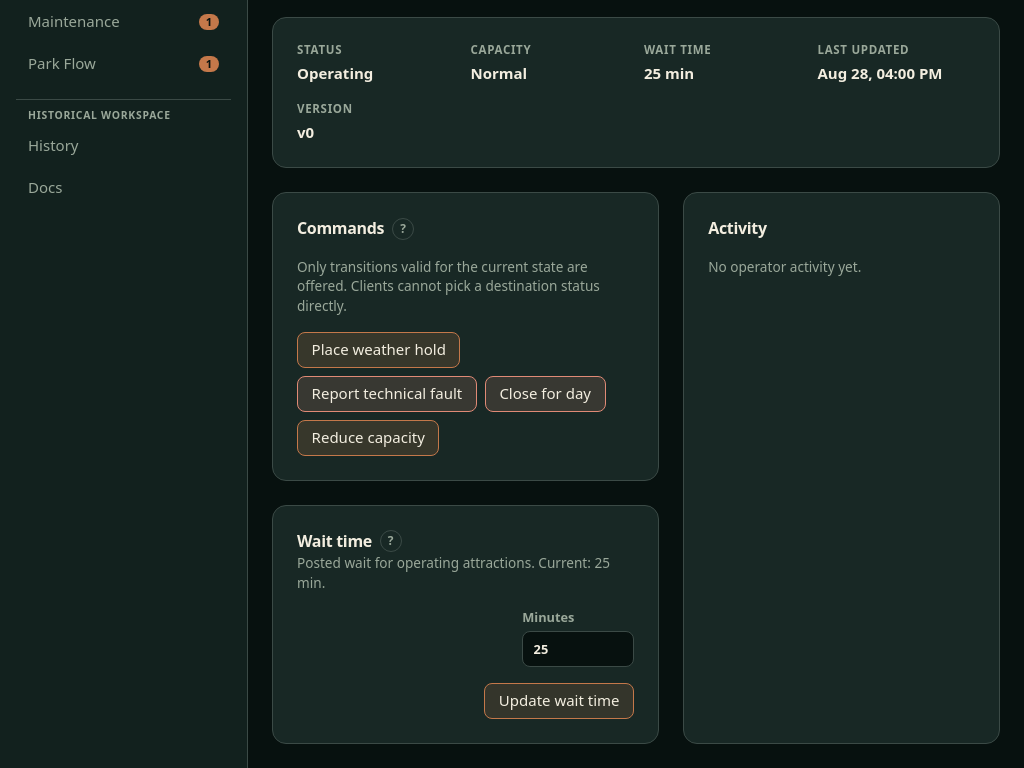
Scenario: Mangrove Run command workspace › updates wait time and refreshes current state
This screenshot has width=1024, height=768.
(page scrolled)
Replace the text in the number field labelled "Minutes" with "35" at (578, 649), box [522,631,634,667]
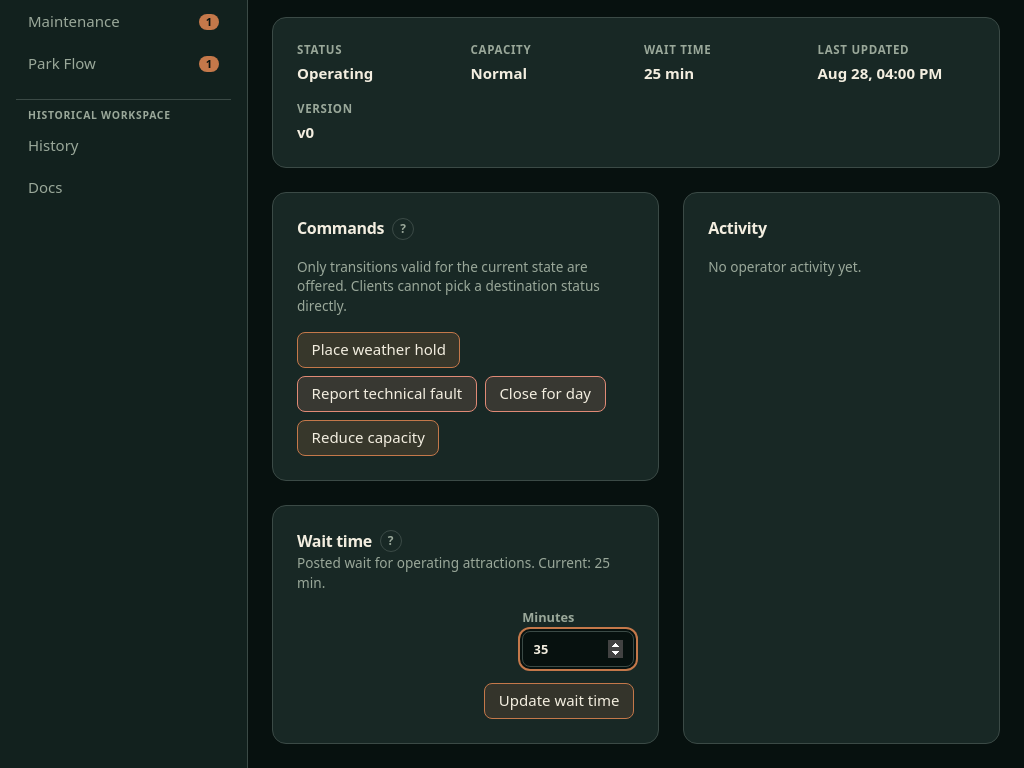
Click the button "Update wait time" at (559, 701), box [484,683,634,719]
(page scrolled)
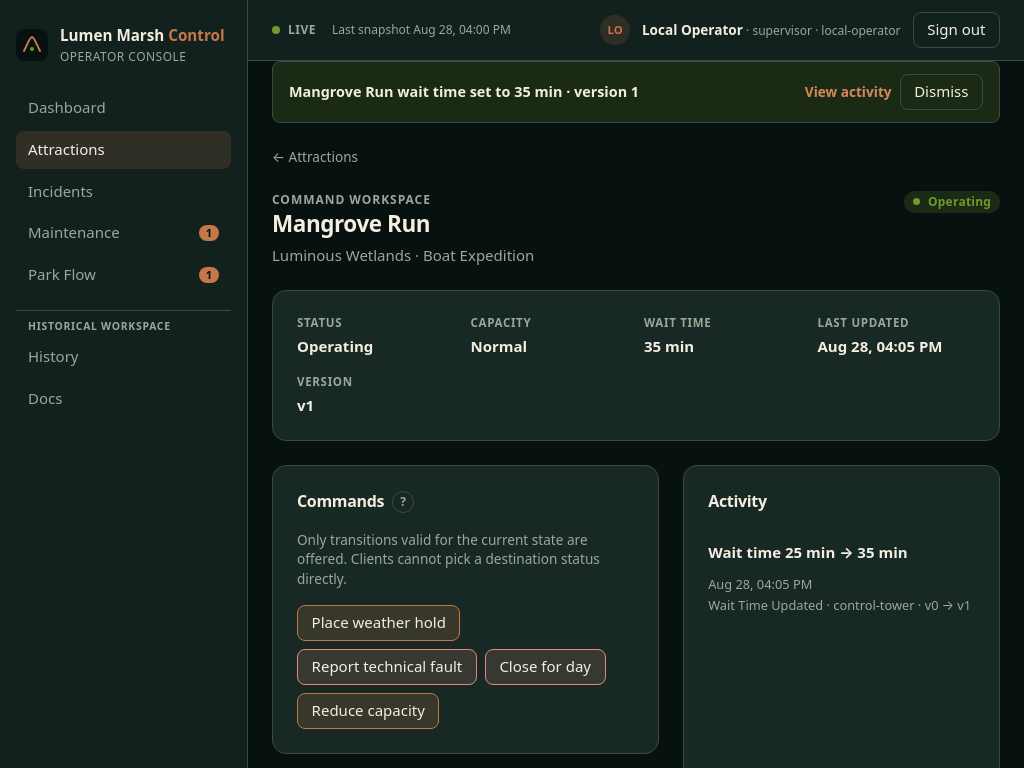
Check: the text "35 min" is shown, box [644,336,694,356]
Check: the text "v1" is shown, box [297,395,314,415]
Check: the text "Wait time 25 min → 35 min" is shown, box [708,542,908,563]
